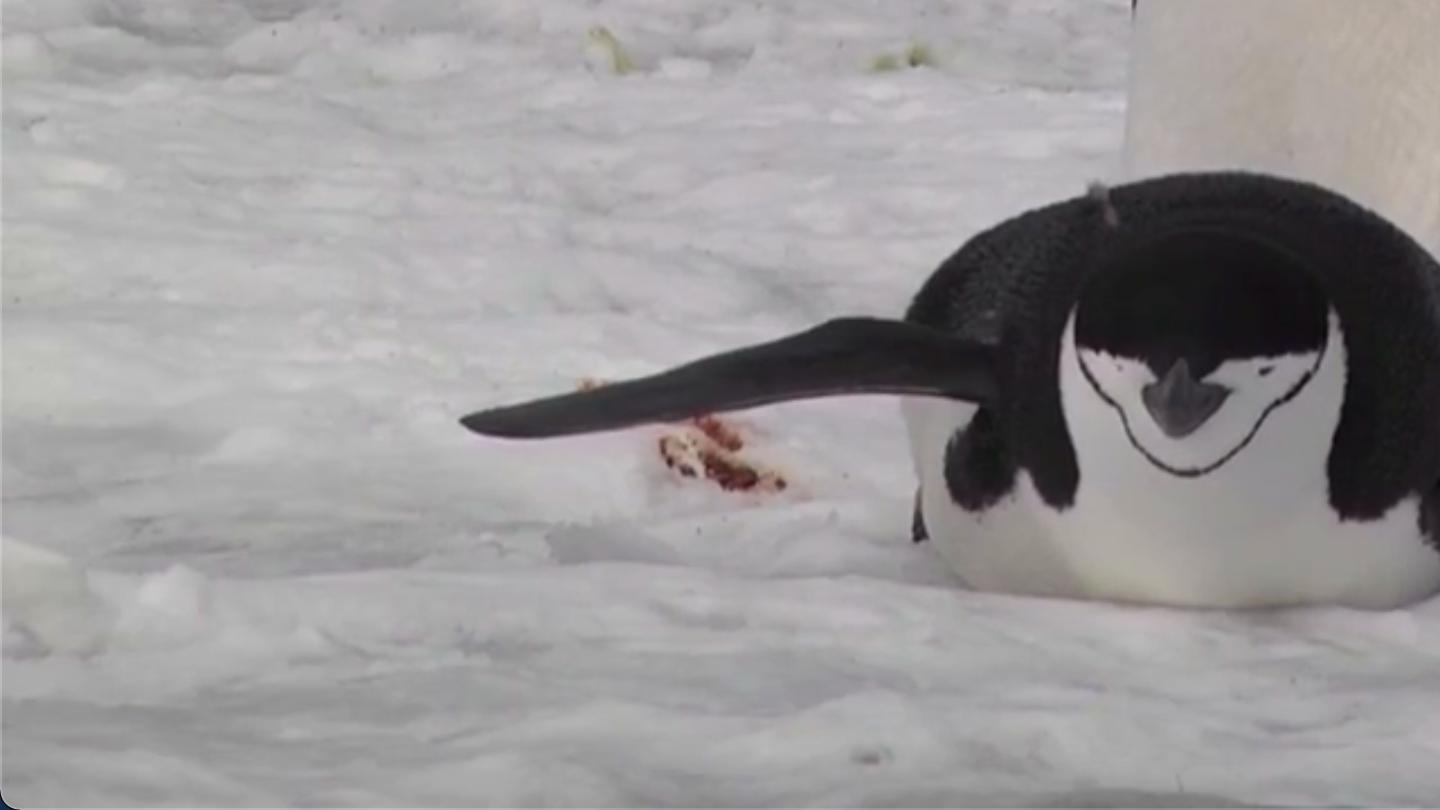Chinstrap Penguin: (451, 166, 1440, 608), (1136, 0, 1440, 158)
